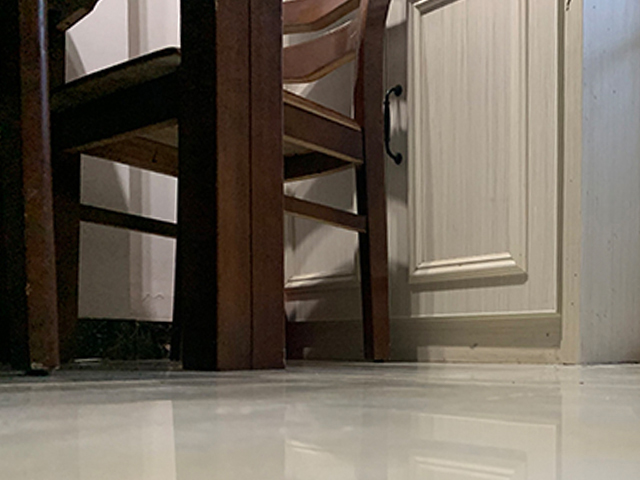cabinet: (383, 1, 638, 366)
stool: (52, 1, 391, 363)
